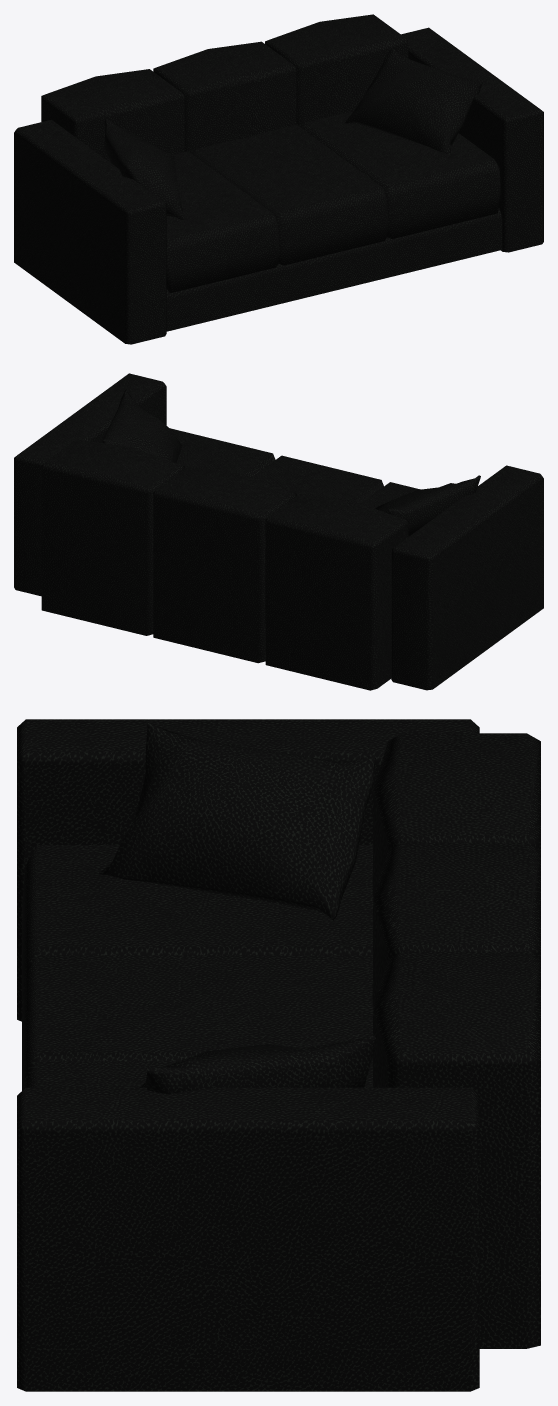
Rendered from sofa_005.fbx.
3 views of the same model, one above another, from view 1: azimuth 30°, elevation 25°; view 2: azimuth 150°, elevation 25°; view 3: azimuth 270°, elevation 25° (orthographic). The views are drawn at different scales.
Parts seen in each view (by area): view 1: sofa_005; view 2: sofa_005; view 3: sofa_005.
Part boxes in pixels (left/top/right/bottom): sofa_005: left=14, top=14, right=543, bottom=344; sofa_005: left=14, top=373, right=543, bottom=690; sofa_005: left=17, top=719, right=540, bottom=1391.
Bounding box in the file's own units: 269 × 146 × 92.71.
